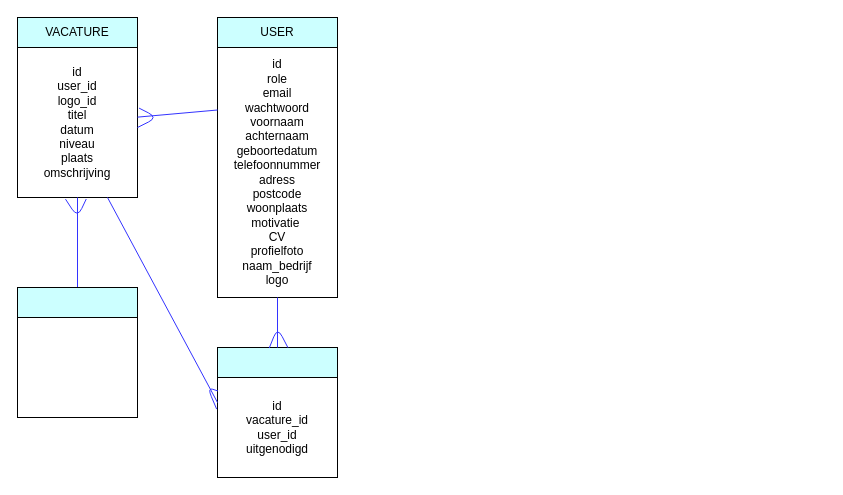
Some shapes in this 843 by 495 pixel diagram are drawn without their labels. Here are the shapes that lost their labels. From the top down, the centre of each, then its label:
At [77,302]: "LOGO".
At [77,367]: "id logo".
At [277,362]: "SOLLICITATIE".
